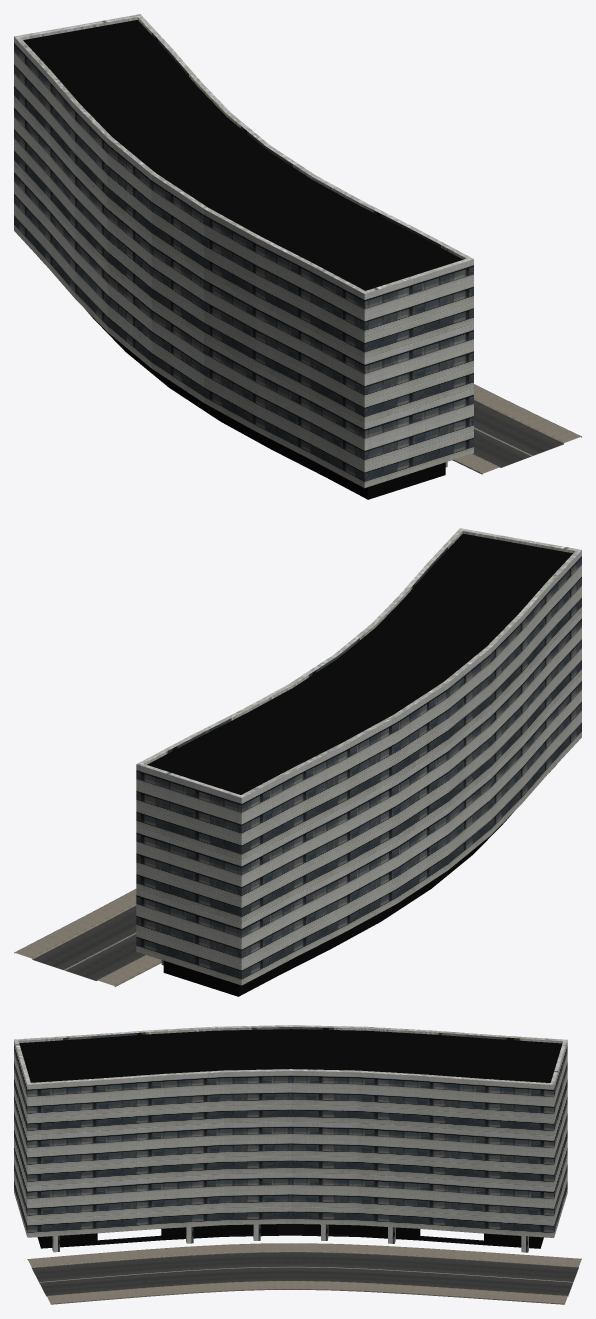
Rendered from Hotel.fbx.
3 renders of one model, top to bottom at view 1: azimuth 30°, elevation 25°; view 2: azimuth 150°, elevation 25°; view 3: azimuth 270°, elevation 25°, orthographic. The views are drawn at different scales.
Visible parts, largest first — view 1: Cube_Building_0, Cube_Material_0, Plane.001; view 2: Cube_Building_0, Cube_Material_0, Plane.001; view 3: Cube_Building_0, Cube_Material_0, Plane.001.
Boxes of the visible parts, x1=… form: Cube_Building_0: x1=14, y1=14, x2=473, y2=488; Cube_Material_0: x1=23, y1=20, x2=462, y2=499; Plane.001: x1=452, y1=384, x2=581, y2=474; Cube_Building_0: x1=136, y1=528, x2=581, y2=985; Cube_Material_0: x1=147, y1=533, x2=572, y2=996; Plane.001: x1=14, y1=889, x2=161, y2=986; Cube_Building_0: x1=14, y1=1025, x2=567, y2=1252; Cube_Material_0: x1=19, y1=1029, x2=562, y2=1248; Plane.001: x1=27, y1=1243, x2=581, y2=1304.
Size of the model in its own units: 1398 by 1060 by 3143.
Materials: 3 (3 with a texture image).
